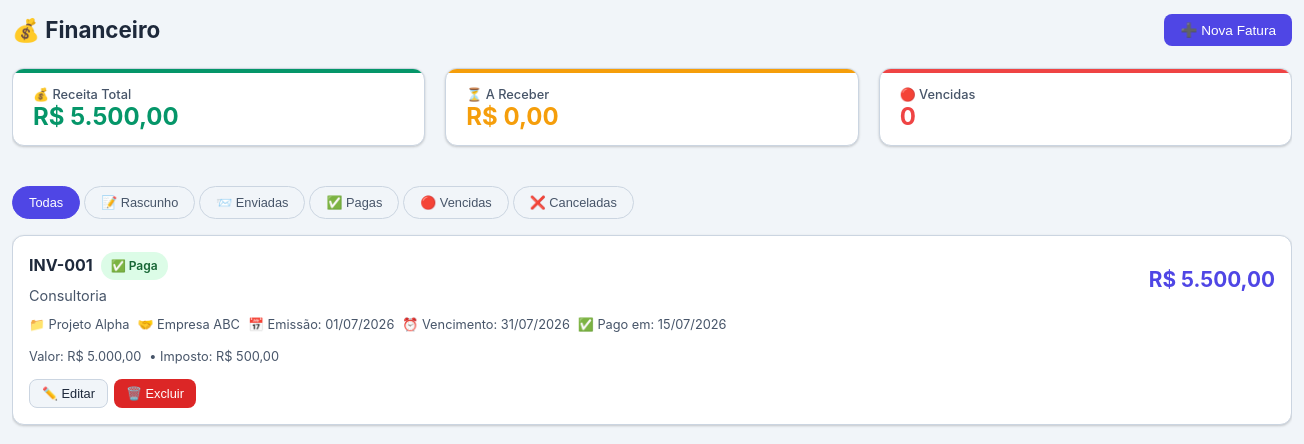
Test: Finance › cancels deletion and keeps invoice
This screenshot has width=1304, height=444.
Click the button "🗑️ Excluir".
click(155, 394)  # box [114,380,196,408]
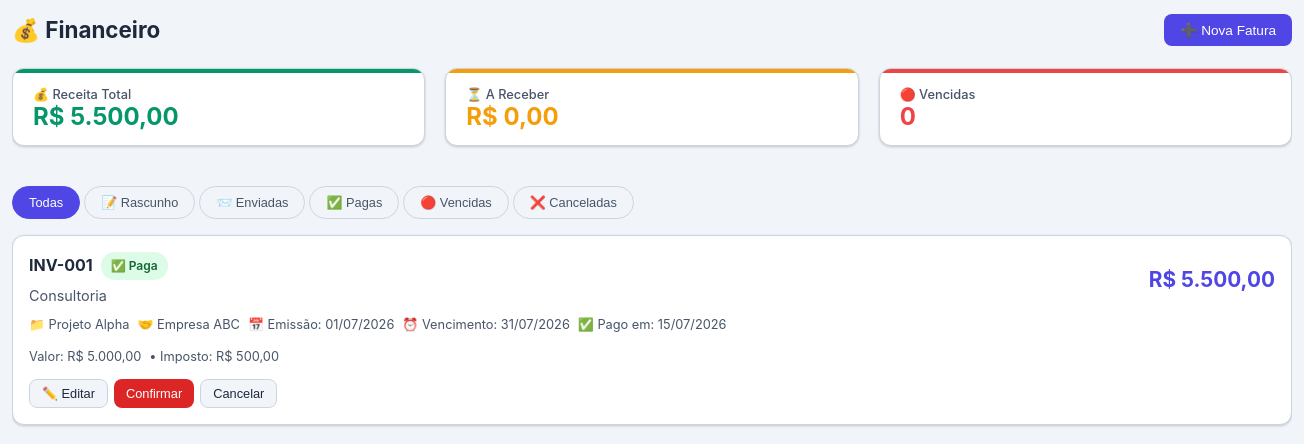
Click the button "Cancelar".
click(239, 394)  # box [200,380,277,408]
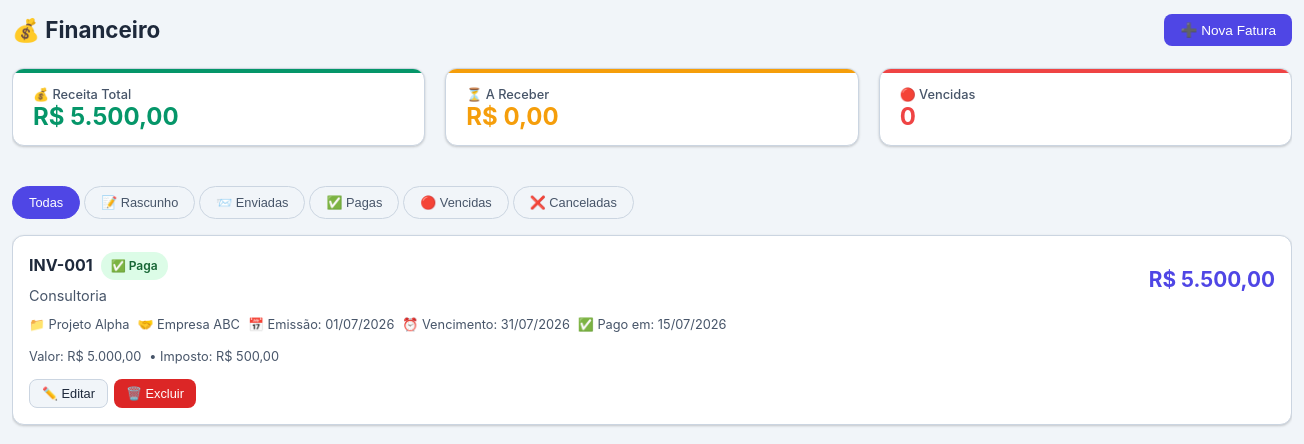
Now the button "Confirmar" is gone
